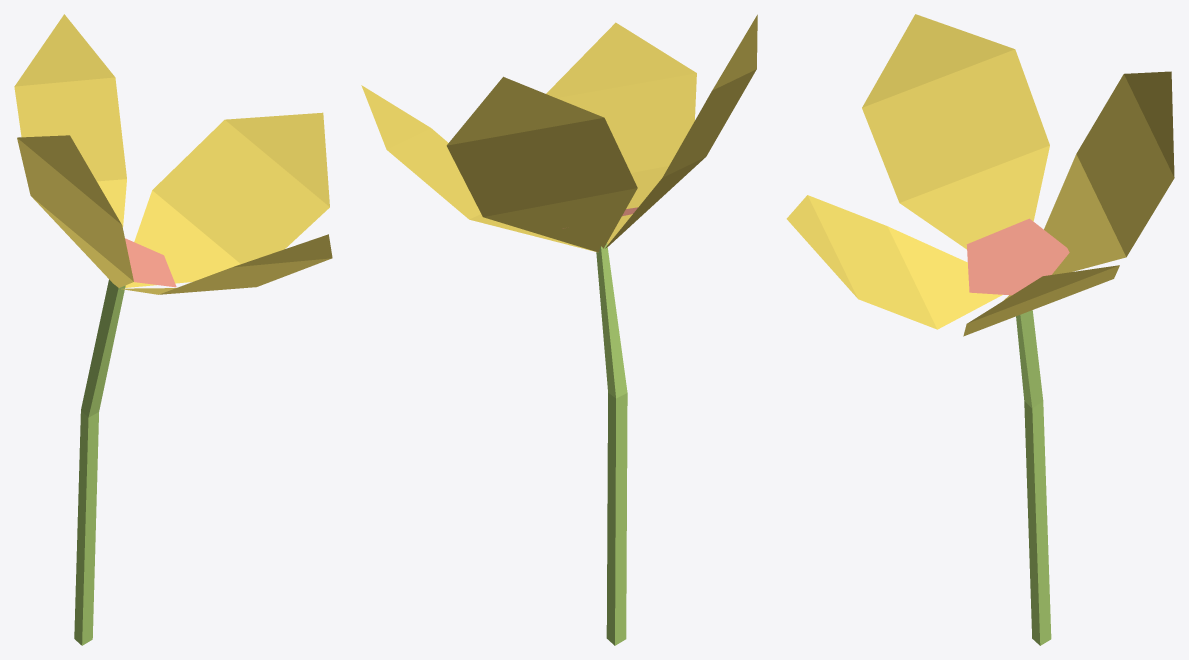
The model's file is Flower_d_OneS_01.fbx.
3 renders of one model, left to right at view 1: azimuth 30°, elevation 25°; view 2: azimuth 150°, elevation 25°; view 3: azimuth 270°, elevation 25°, orthographic. The views are drawn at different scales.
Visible parts, largest first — view 1: Flower_d_OneS_01; view 2: Flower_d_OneS_01; view 3: Flower_d_OneS_01.
Part boxes in pixels (x1,y1,x2,y2): Flower_d_OneS_01: (14,14,332,645); Flower_d_OneS_01: (361,14,757,645); Flower_d_OneS_01: (786,14,1174,645).
Size of the model in its own units: 0.1927 by 0.3289 by 0.1953.
